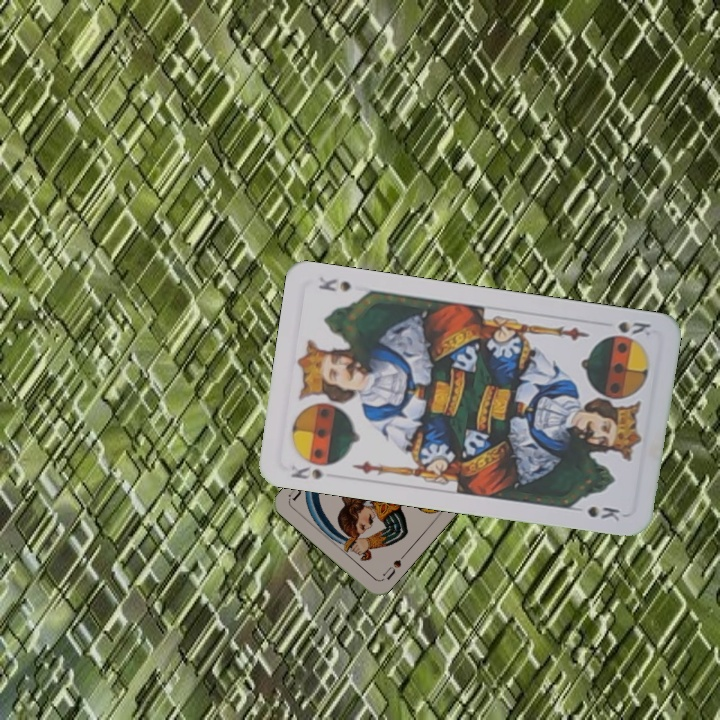SK: (600, 317, 653, 344), (286, 461, 328, 482)
SU: (379, 550, 408, 583)
